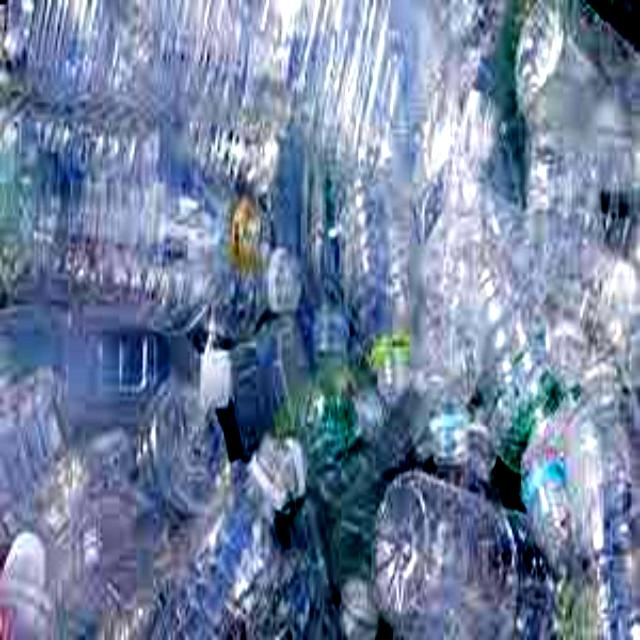Plastic: (10, 170, 274, 262), (0, 309, 240, 406), (343, 155, 411, 399)
